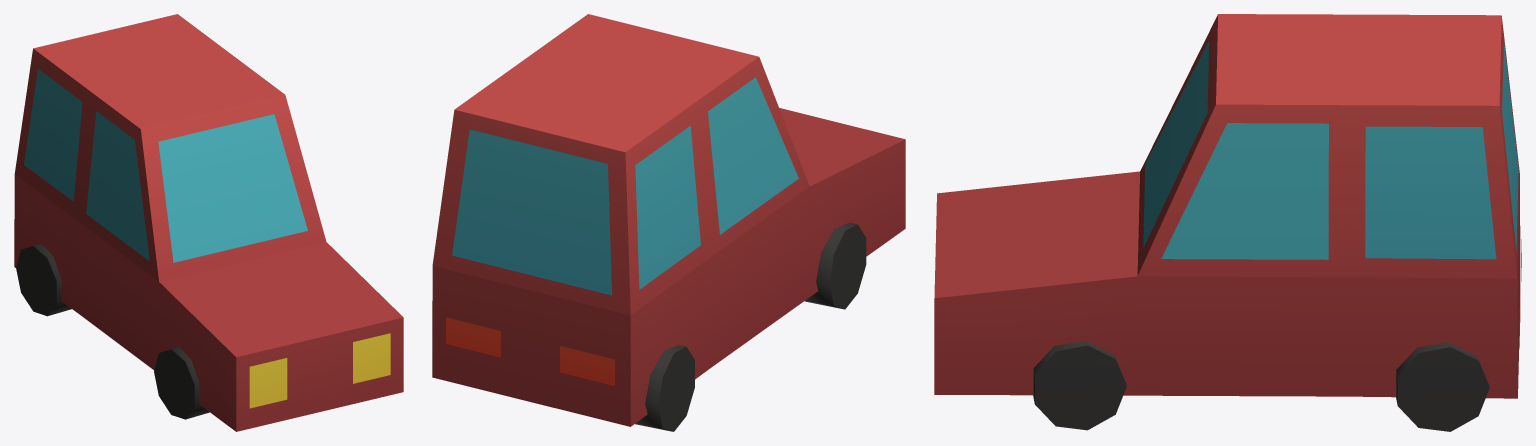
File: Car_3_2.fbx
3 views of the same model, side by side, from view 1: azimuth 30°, elevation 25°; view 2: azimuth 150°, elevation 25°; view 3: azimuth 270°, elevation 25° (orthographic). The views are drawn at different scales.
Parts seen in each view (by area): view 1: Car_3_2; view 2: Car_3_2; view 3: Car_3_2.
Part boxes in pixels (x1,y1,x2,y2): Car_3_2: (14,14,403,431); Car_3_2: (432,14,905,431); Car_3_2: (934,14,1521,431).
Size of the model in its own units: 220 by 270 by 456.
